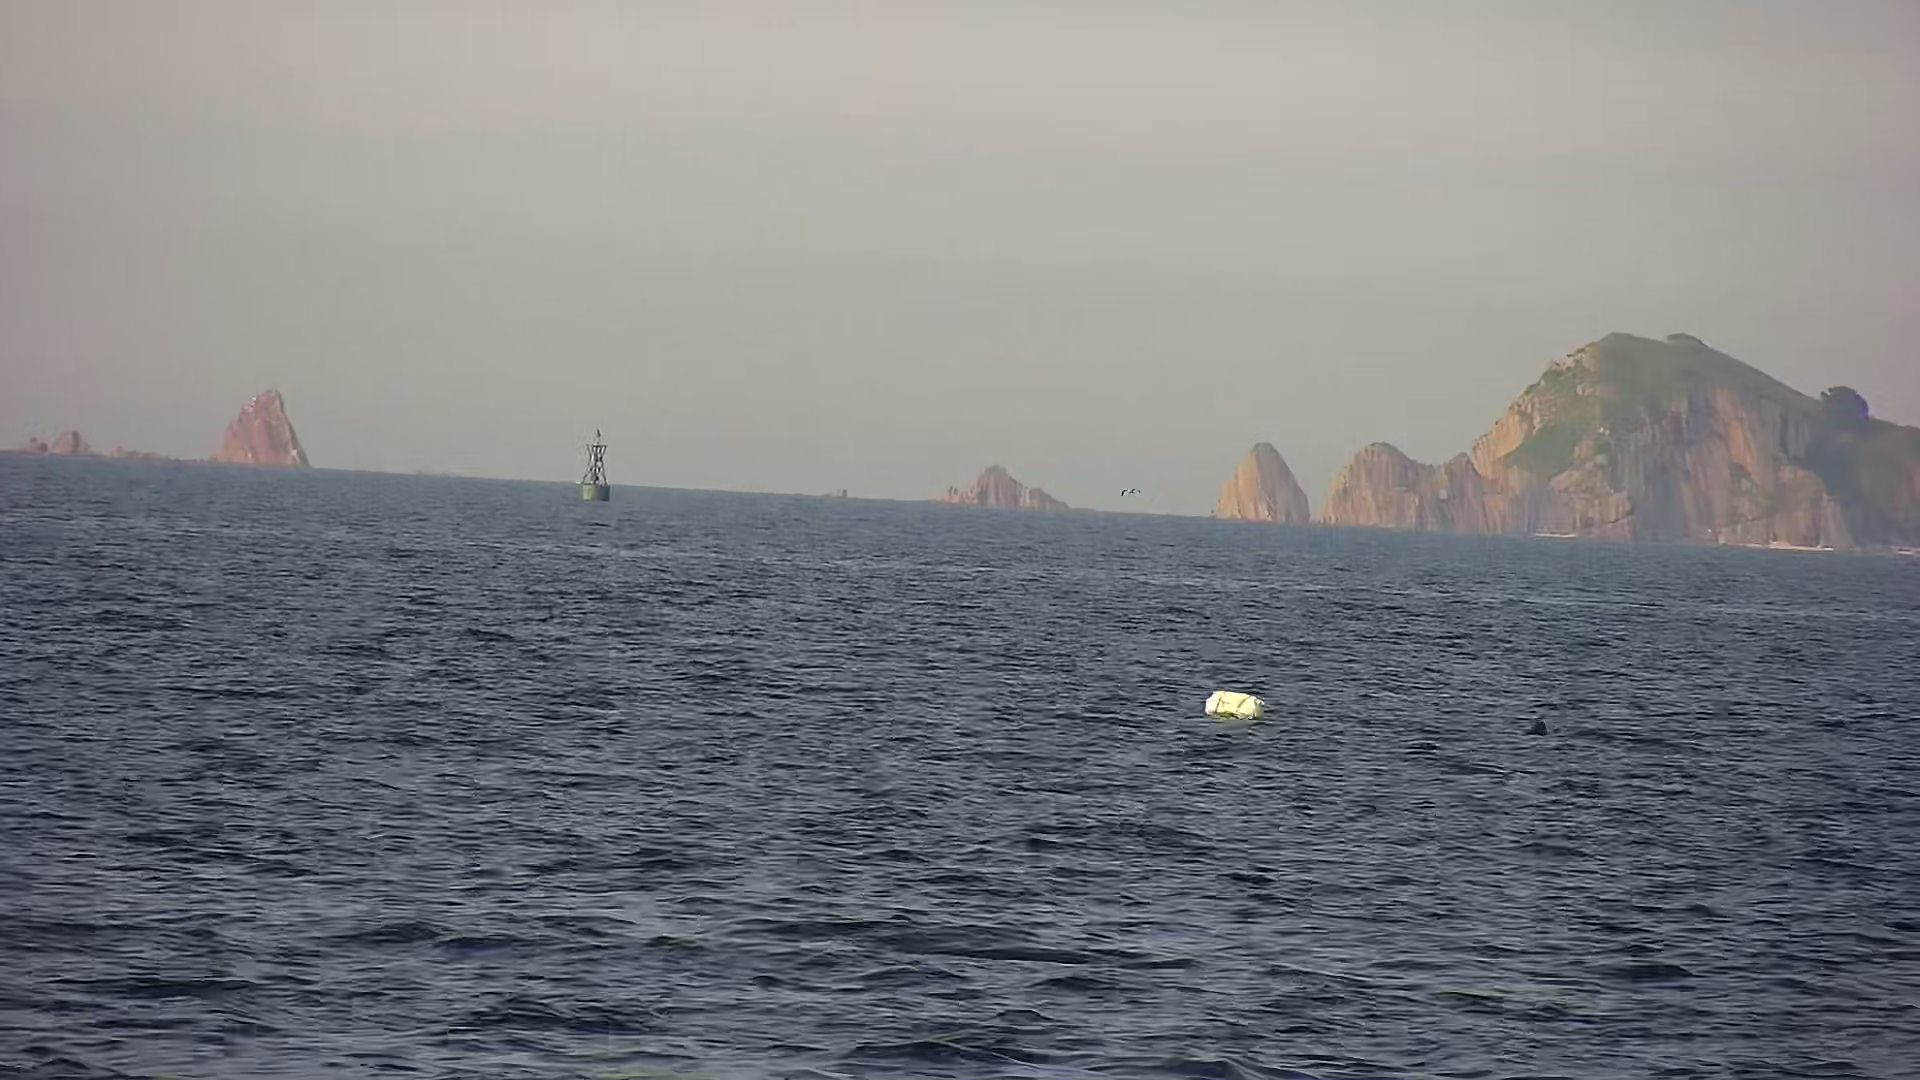buoy: (568, 426, 620, 516)
rubbish: (1193, 680, 1274, 731)
